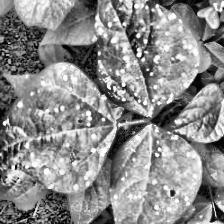Bean Rust: (0, 64, 115, 192), (92, 0, 199, 118), (107, 124, 201, 224)
